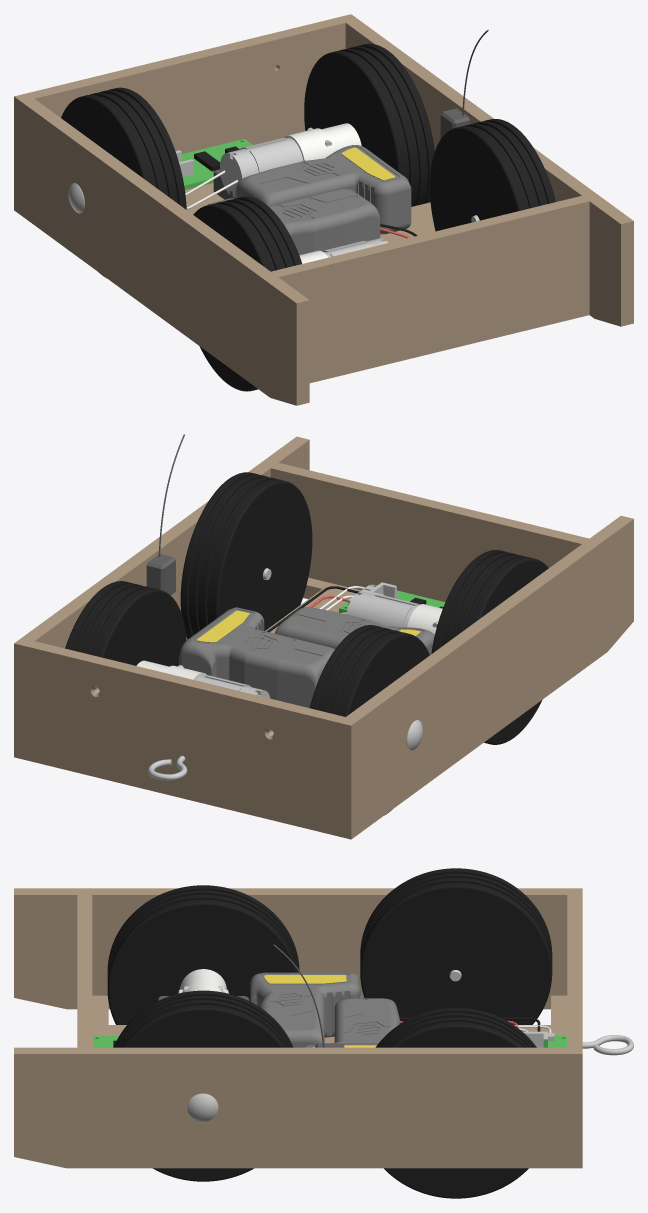
The model's file is Chariot_Model.glb.
3 renders of one model, top to bottom at view 1: azimuth 30°, elevation 25°; view 2: azimuth 150°, elevation 25°; view 3: azimuth 270°, elevation 25°, orthographic.
Visible parts, largest first — view 1: Chariot2025 v4.002; view 2: Chariot2025 v4.002; view 3: Chariot2025 v4.002.
Part boxes in pixels (x1=…): Chariot2025 v4.002: x1=14, y1=14, x2=633, y2=405; Chariot2025 v4.002: x1=14, y1=434, x2=633, y2=839; Chariot2025 v4.002: x1=14, y1=868, x2=633, y2=1198.
Size of the model in its own units: 320 by 226 by 491.
